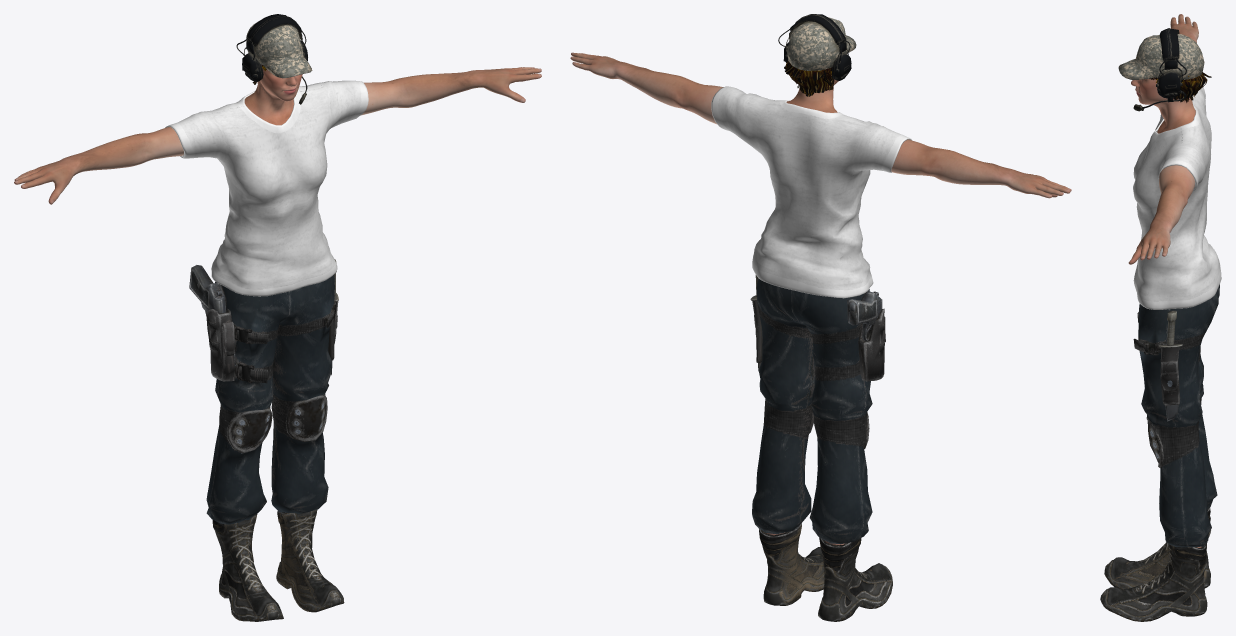
The model's file is GraceHeadphone-OBJ.obj.
3 views of the same model, side by side, from view 1: azimuth 30°, elevation 25°; view 2: azimuth 150°, elevation 25°; view 3: azimuth 270°, elevation 25° (orthographic). The views are drawn at different scales.
Parts seen in each view (by area): view 1: Bottoms, Tops, Body, Shoes, Hats; view 2: Bottoms, Tops, Body, Shoes, Hats, Hair; view 3: Bottoms, Tops, Shoes, Body, Hats, Hair.
Part boxes in pixels (box(x1,y1,x2,y2)): Bottoms: box(189, 259, 338, 524); Tops: box(165, 80, 368, 296); Body: box(14, 65, 541, 204); Shoes: box(212, 510, 344, 621); Hats: box(236, 14, 312, 104); Bottoms: box(750, 275, 885, 544); Tops: box(711, 86, 911, 298); Body: box(570, 52, 1071, 545); Shoes: box(759, 523, 892, 621); Hats: box(778, 14, 856, 80); Hair: box(784, 61, 834, 96); Bottoms: box(1133, 284, 1219, 547); Tops: box(1133, 87, 1221, 309); Shoes: box(1100, 508, 1210, 621); Body: box(1128, 14, 1201, 547); Hats: box(1118, 28, 1204, 111); Hair: box(1149, 72, 1211, 102).
Size of the model in its own units: 176 by 192 by 36.92.
Materials: 6 (6 with a texture image).
